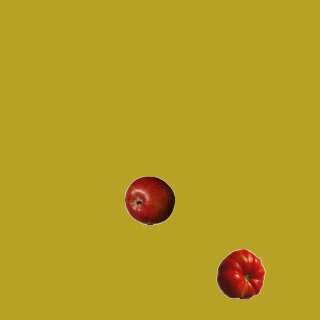Apple Braeburn: (124, 175, 174, 225)
Tomato 3: (215, 248, 265, 298)
